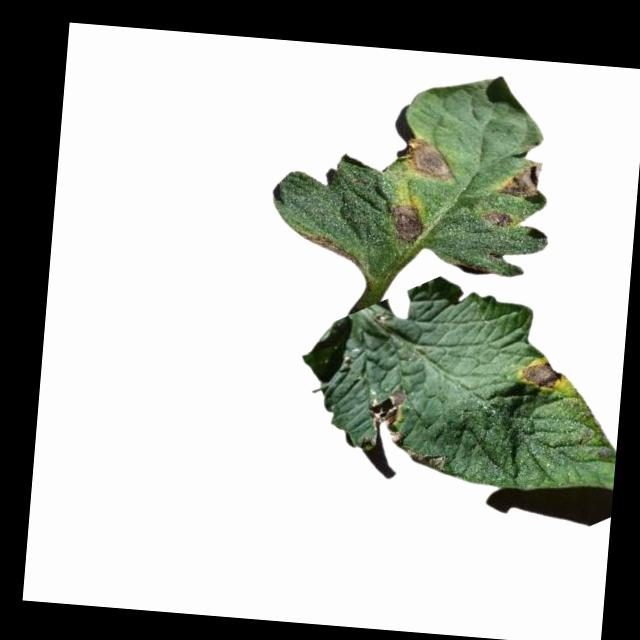Early_blight: (397, 134, 456, 182), (295, 232, 362, 269), (369, 388, 408, 449), (496, 160, 549, 204), (517, 355, 562, 395), (386, 203, 427, 246), (481, 208, 515, 230)
